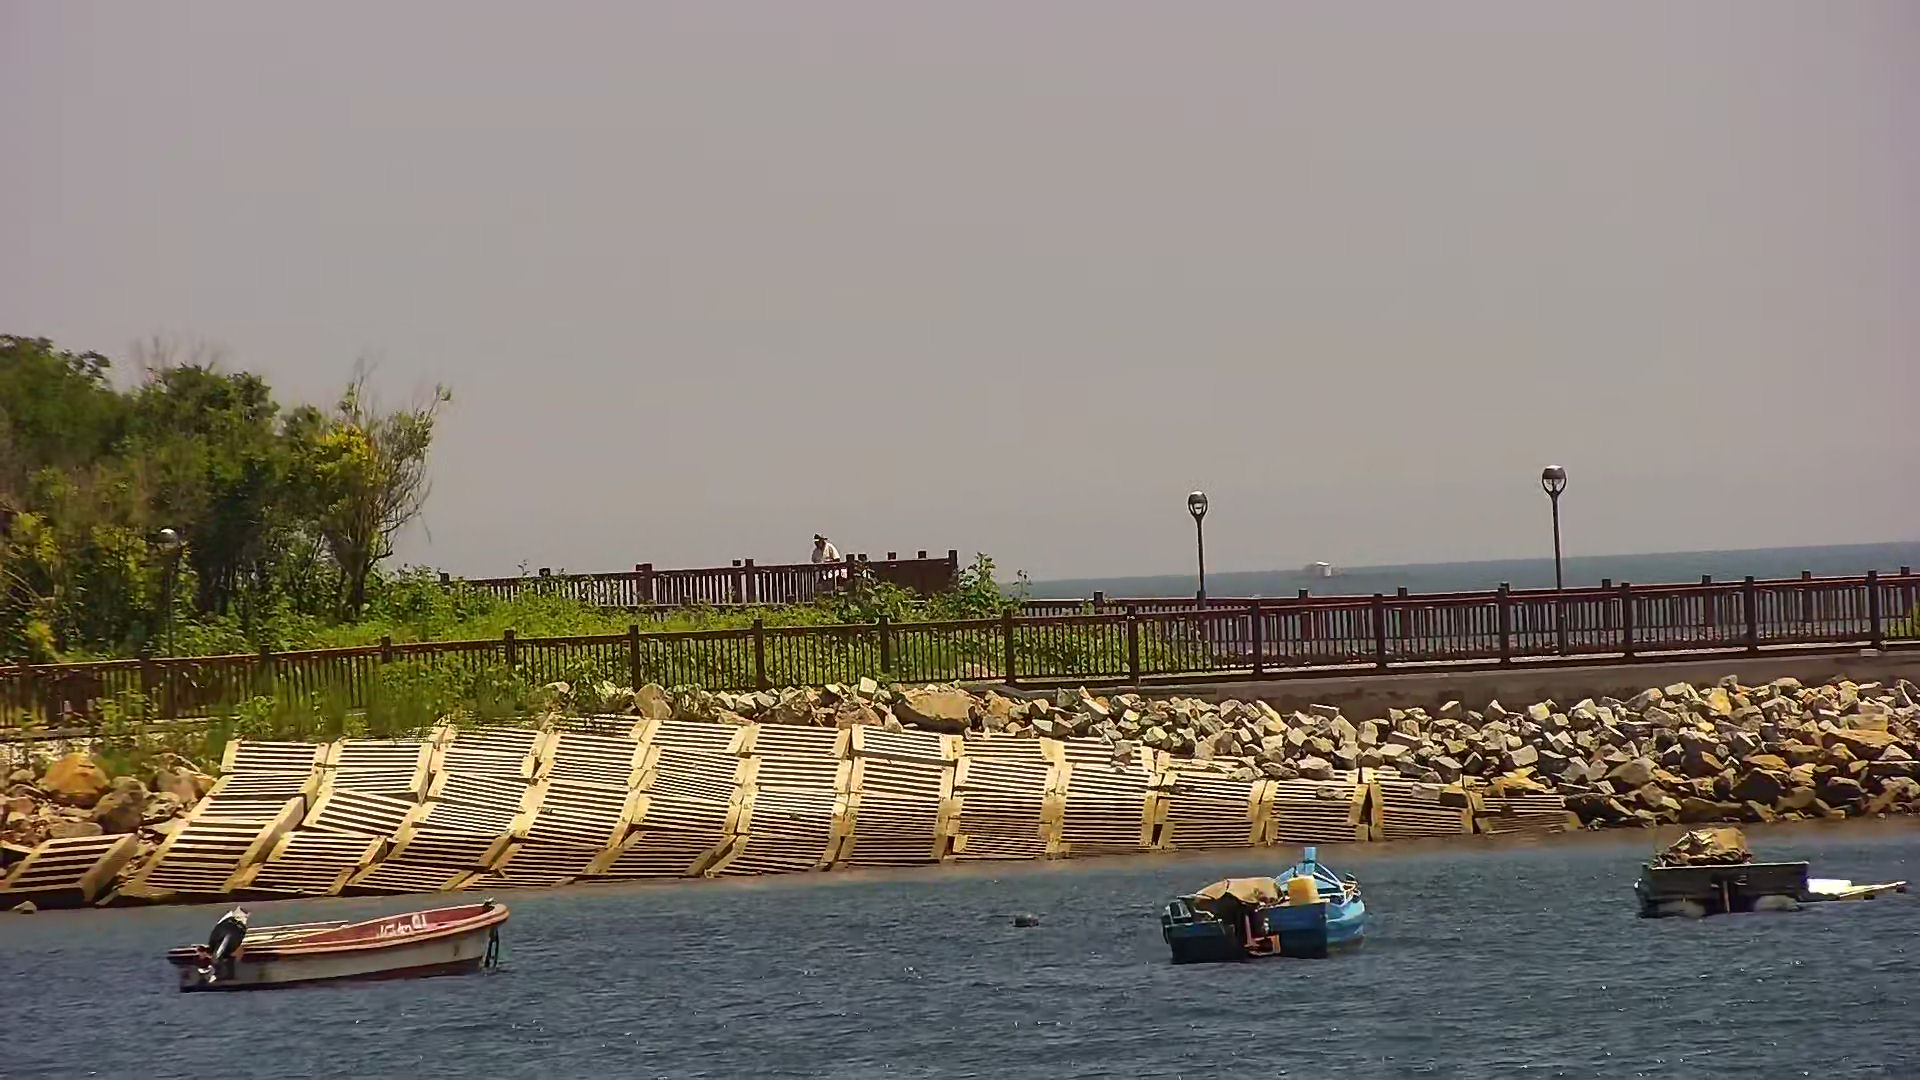ball: (1007, 902, 1048, 938)
boat: (1614, 812, 1913, 930), (165, 895, 518, 992), (1139, 844, 1370, 969)
